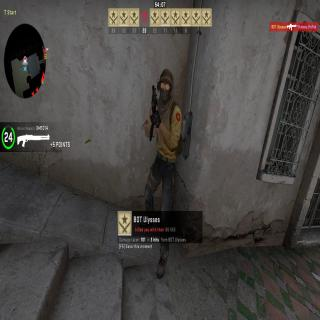T-Body: (139, 65, 185, 278)
T-Head: (158, 69, 175, 103)
